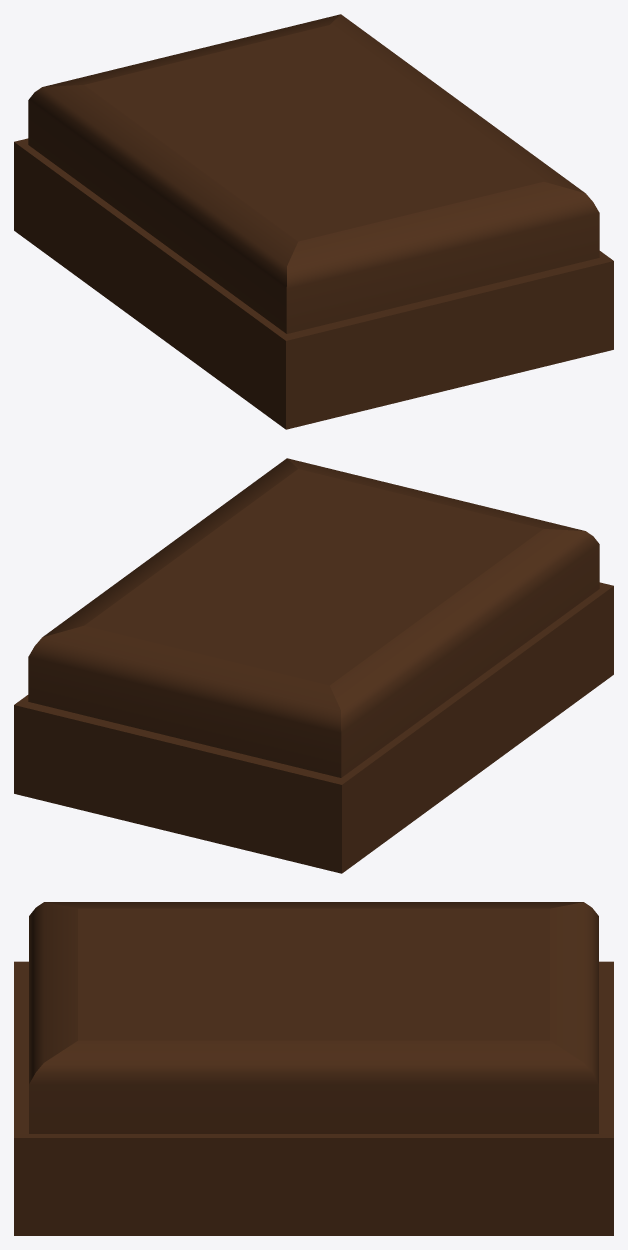
The model's file is hub_ottoman.fbx.
3 renders of one model, top to bottom at view 1: azimuth 30°, elevation 25°; view 2: azimuth 150°, elevation 25°; view 3: azimuth 270°, elevation 25°, orthographic. The views are drawn at different scales.
Visible parts, largest first — view 1: hub_ottoman; view 2: hub_ottoman; view 3: hub_ottoman.
Part boxes in pixels (bbox=[...]): hub_ottoman: bbox=[14, 14, 613, 429]; hub_ottoman: bbox=[14, 458, 613, 873]; hub_ottoman: bbox=[14, 902, 613, 1235].
Bounding box in the file's own units: 1.16 × 0.5301 × 1.67.
